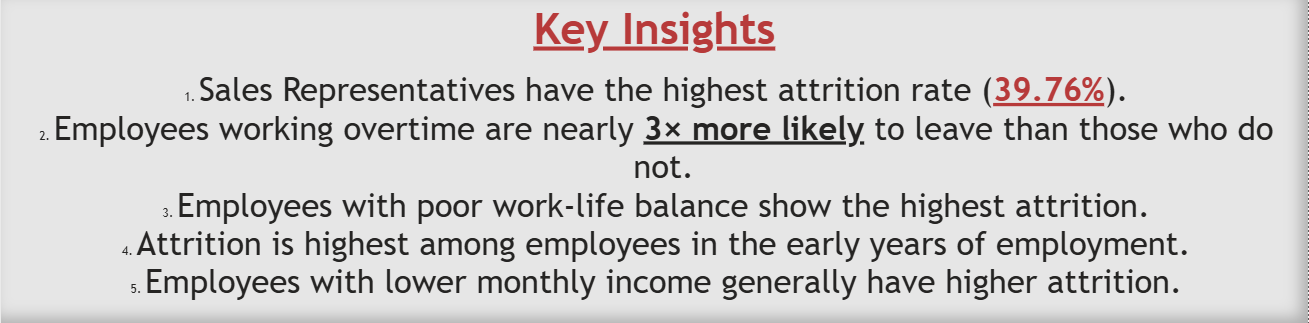

The dashboard page shown, as its layout file describes it:
{"tool":"powerbi","page":{"name":"Key Insights","canvas":[1280,720],"ordinal":2},"visuals":[{"type":"textbox","box":[0,40.3,1280.3,319.7],"z":0}]}

Visuals, with their boxes on the page's 1280x720 design canvas (x1, y1, x2, y2). These are canvas units, not pixel positions in the 1309x323 screenshot, which may show the page scaled, cropped or inside an application window:
textbox: box(0, 40, 1280, 360)
